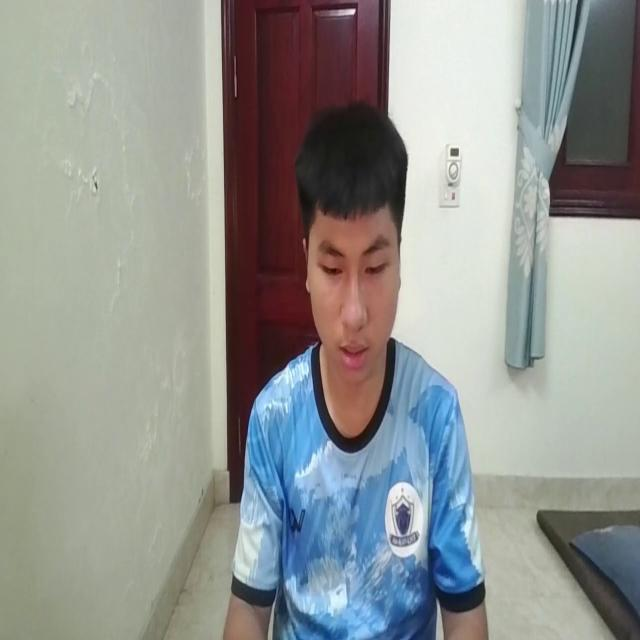student: (224, 98, 488, 640)
